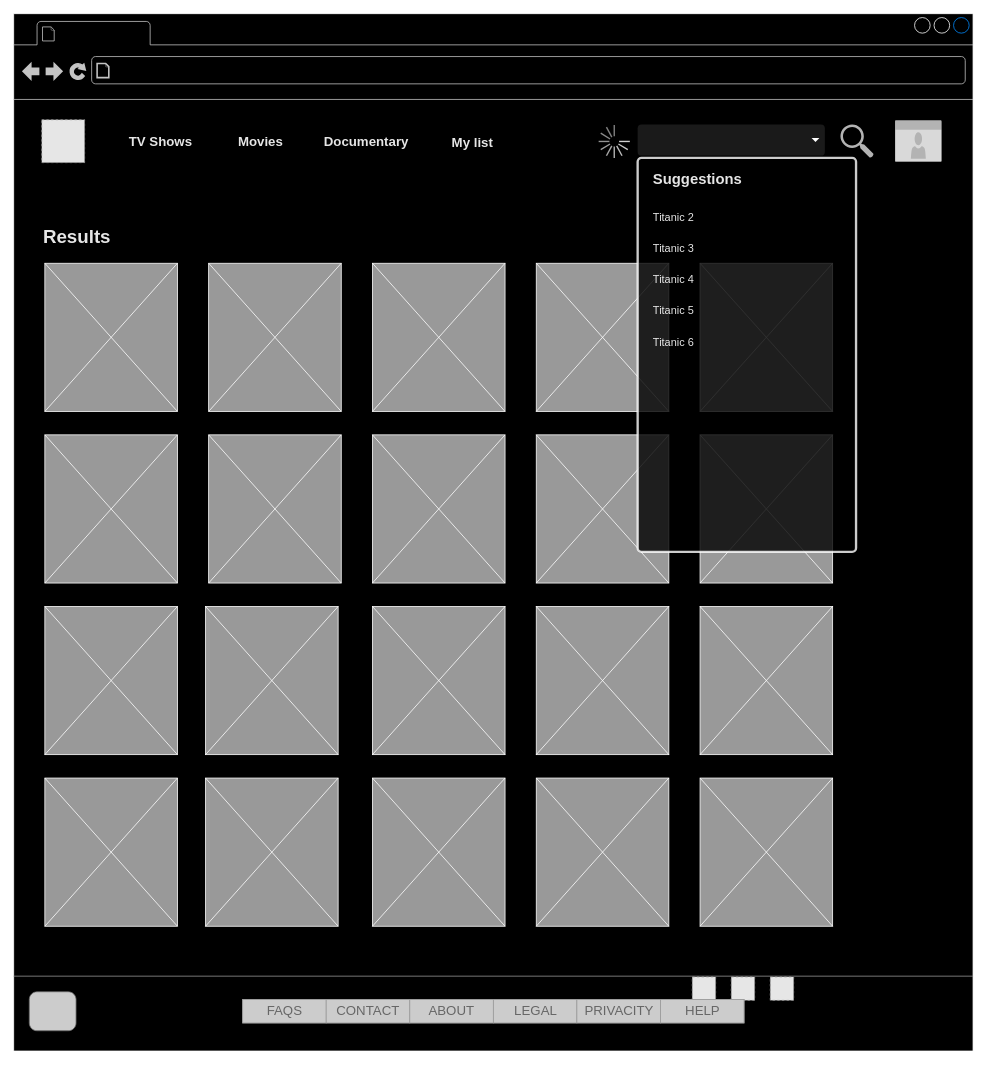
This 987x1065 diagram has some shape labels left out. Grey dashed boxes stand in for pictures. The shapes that lost their labels are listed below. From the top down, each one's box as (x1, y1, x2, y2) in pixels, then its label:
(60, 22, 146, 43): Home
(114, 60, 310, 81): https://www.devflix.com/searchRes
(637, 124, 824, 155): Titanic
(895, 120, 941, 161): Profile
(28, 991, 76, 1031): Lang
